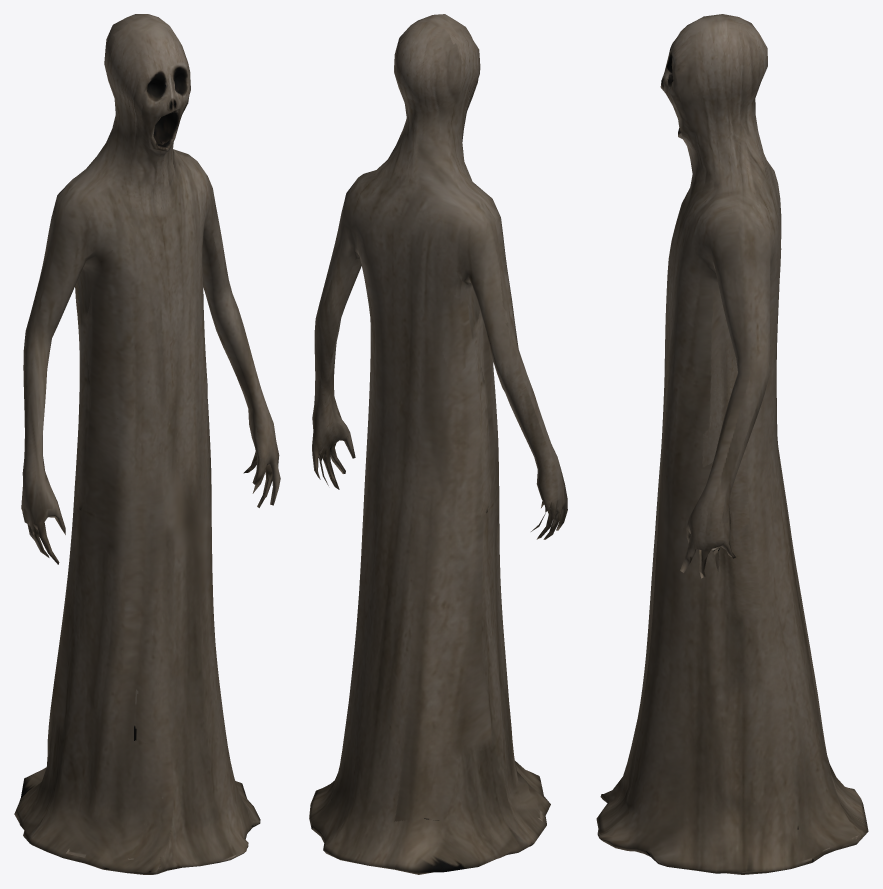
Rendered from Herald.glb.
3 views of the same model, side by side, from view 1: azimuth 30°, elevation 25°; view 2: azimuth 150°, elevation 25°; view 3: azimuth 270°, elevation 25° (orthographic).
Parts seen in each view (by area): view 1: Retopo_mesh_node; view 2: Retopo_mesh_node; view 3: Retopo_mesh_node.
Boxes of the visible parts, x1,y1,x2,y2 form: Retopo_mesh_node: [14, 14, 280, 874]; Retopo_mesh_node: [309, 14, 567, 874]; Retopo_mesh_node: [596, 14, 868, 874].
Bounding box in the file's own units: 0.6053 × 1.89 × 0.5758.
Materials: 1 (1 with a texture image).
